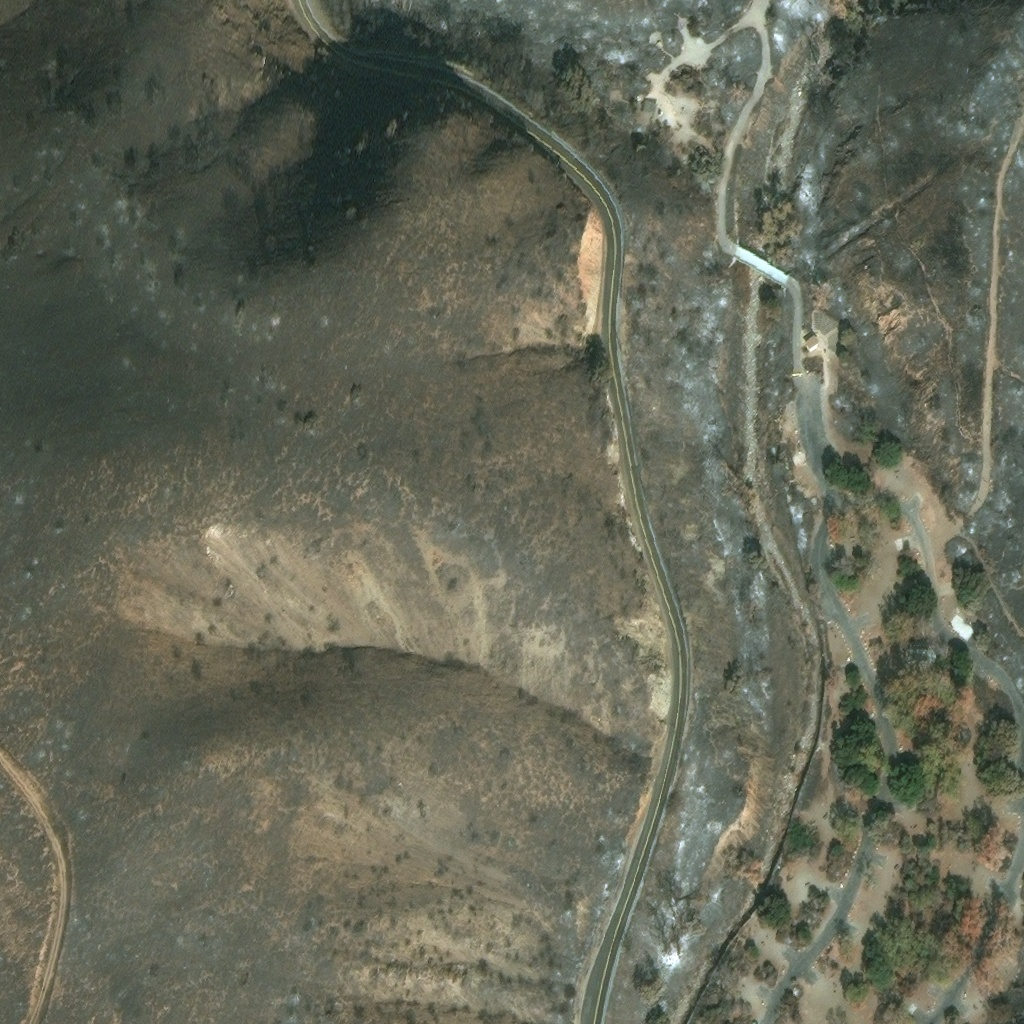0 no-damage: (947, 614, 975, 640), (804, 334, 820, 351), (640, 102, 656, 115)
3 destroyed: (902, 640, 932, 660)
